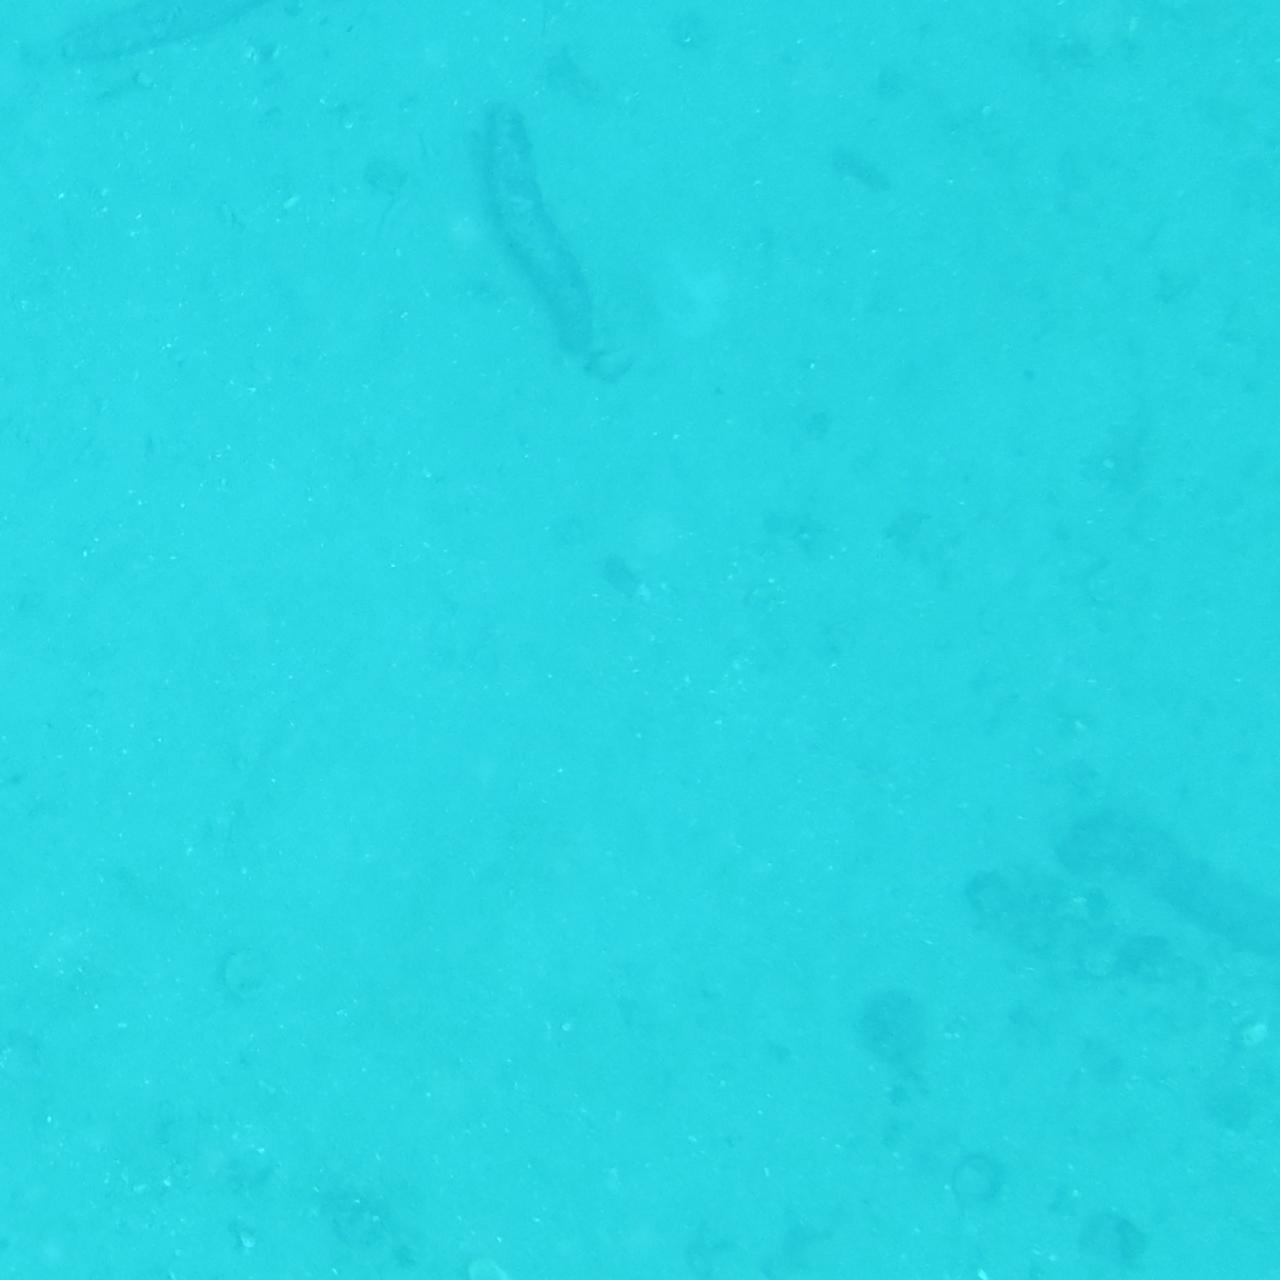Holothuria tubulosa: (1049, 777, 1280, 979), (483, 79, 633, 365), (67, 0, 415, 97), (809, 1198, 1091, 1280), (0, 0, 190, 93)
